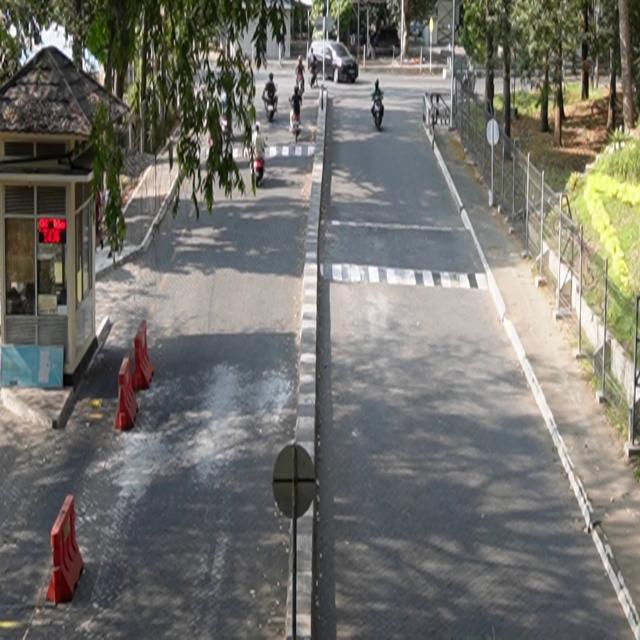car: (308, 40, 360, 84)
